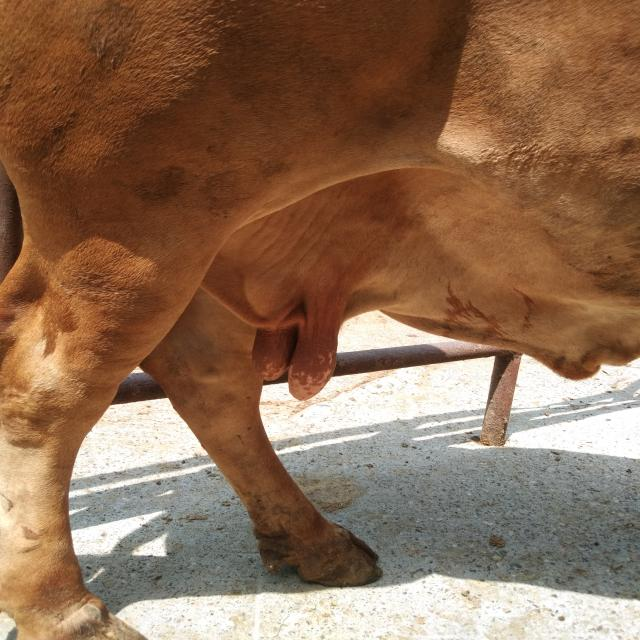Hoof: (256, 522, 383, 588), (13, 594, 148, 639)
